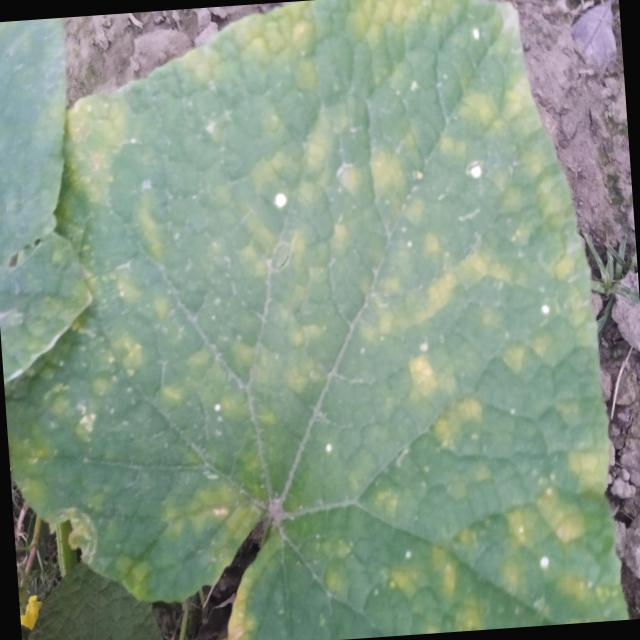cucumber_downy: (73, 0, 605, 640)
